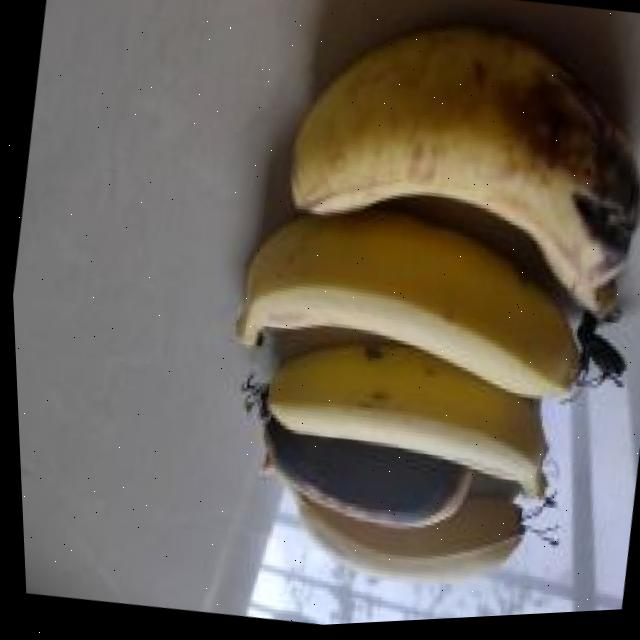Wet: (254, 0, 640, 405), (215, 370, 478, 557)
